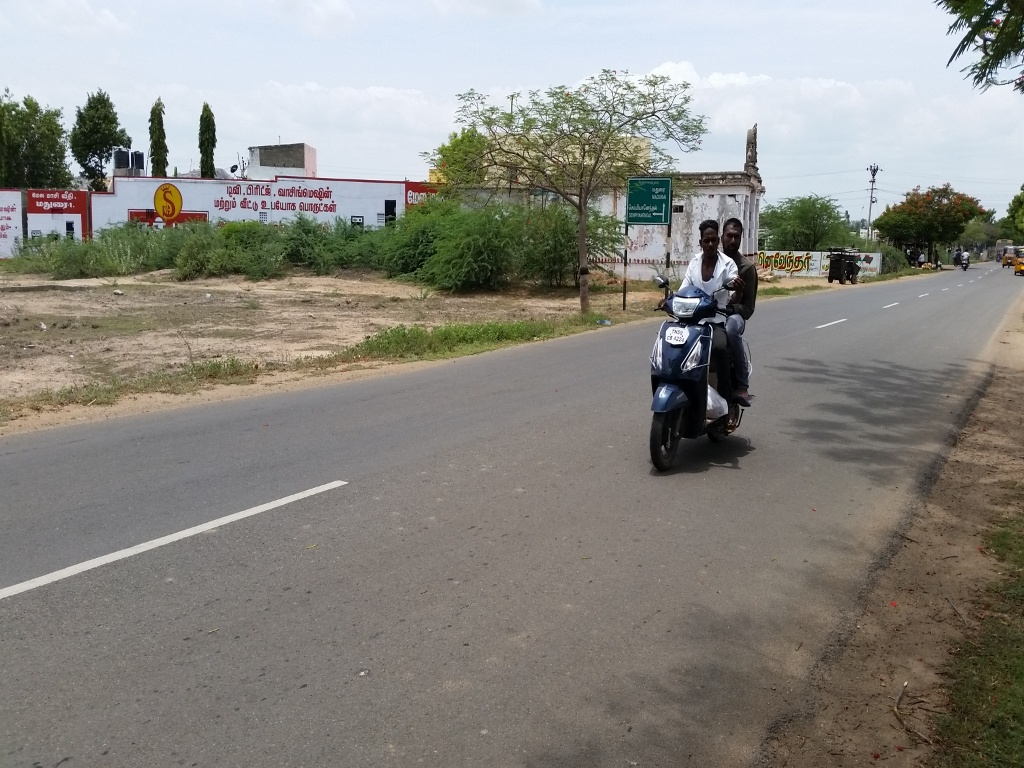biker: (627, 182, 781, 485)
nohelmet: (720, 212, 751, 270), (694, 210, 725, 268)
